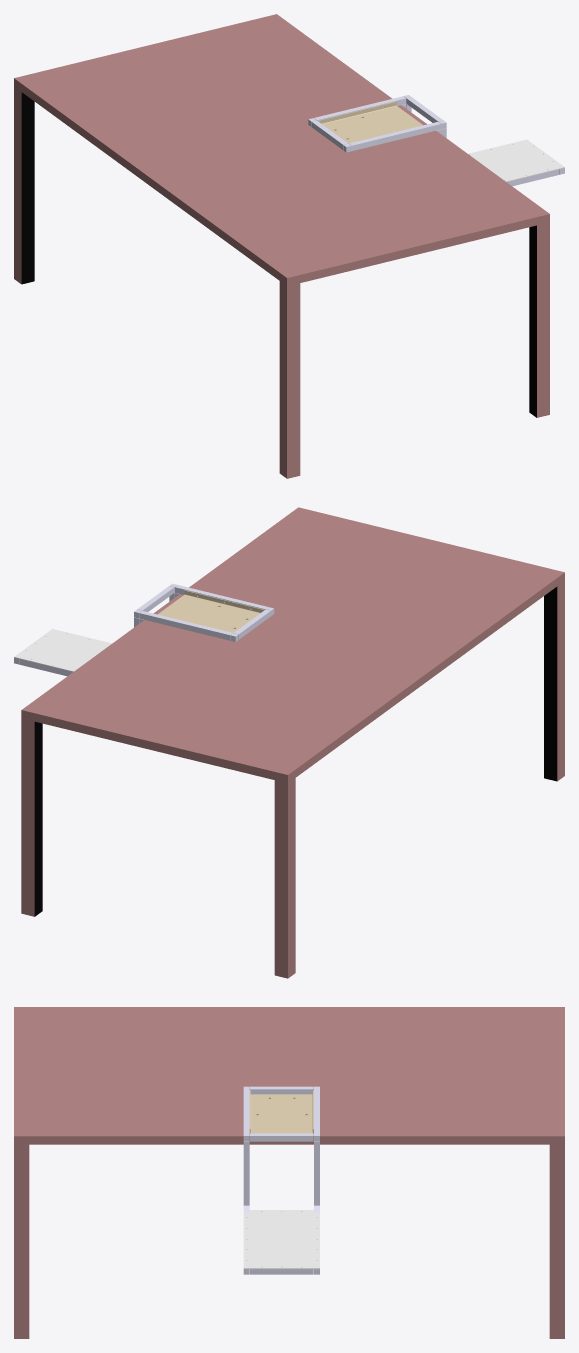
3 renders of one model, top to bottom at view 1: azimuth 30°, elevation 25°; view 2: azimuth 150°, elevation 25°; view 3: azimuth 270°, elevation 25°, orthographic.
Parts seen in each view (by area): view 1: obj2, obj1, obj5, obj4, obj3; view 2: obj2, obj1, obj5, obj4, obj3; view 3: obj2, obj3, obj5, obj4.
Boxes of the visible parts, left/top/right/bottom form: obj2: left=14, top=14, right=549, bottom=478; obj1: left=21, top=92, right=536, bottom=417; obj5: left=308, top=95, right=564, bottom=186; obj4: left=318, top=101, right=422, bottom=143; obj3: left=468, top=139, right=564, bottom=181; obj2: left=21, top=507, right=564, bottom=978; obj1: left=34, top=586, right=557, bottom=916; obj5: left=14, top=583, right=274, bottom=676; obj4: left=157, top=590, right=264, bottom=632; obj3: left=14, top=629, right=111, bottom=671; obj2: left=14, top=1007, right=564, bottom=1338; obj3: left=243, top=1210, right=319, bottom=1269; obj5: left=243, top=1086, right=319, bottom=1274; obj4: left=249, top=1090, right=313, bottom=1133.
Size of the model in its own units: 1.49 by 1.8 by 0.75.
